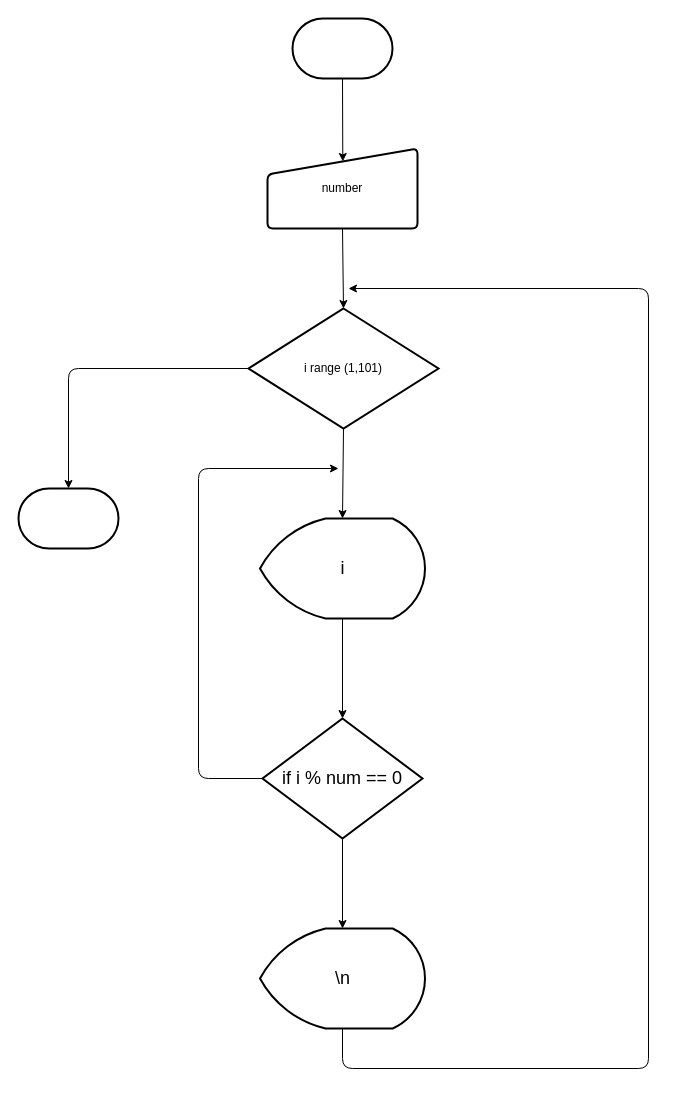
The diagram is 674 pixels wide and 1094 high, and some of its shapes have lost their labels. Here are the shapes that lost their labels. From the top down, the centre of each, then its label:
point (342, 48): start
point (68, 518): end
